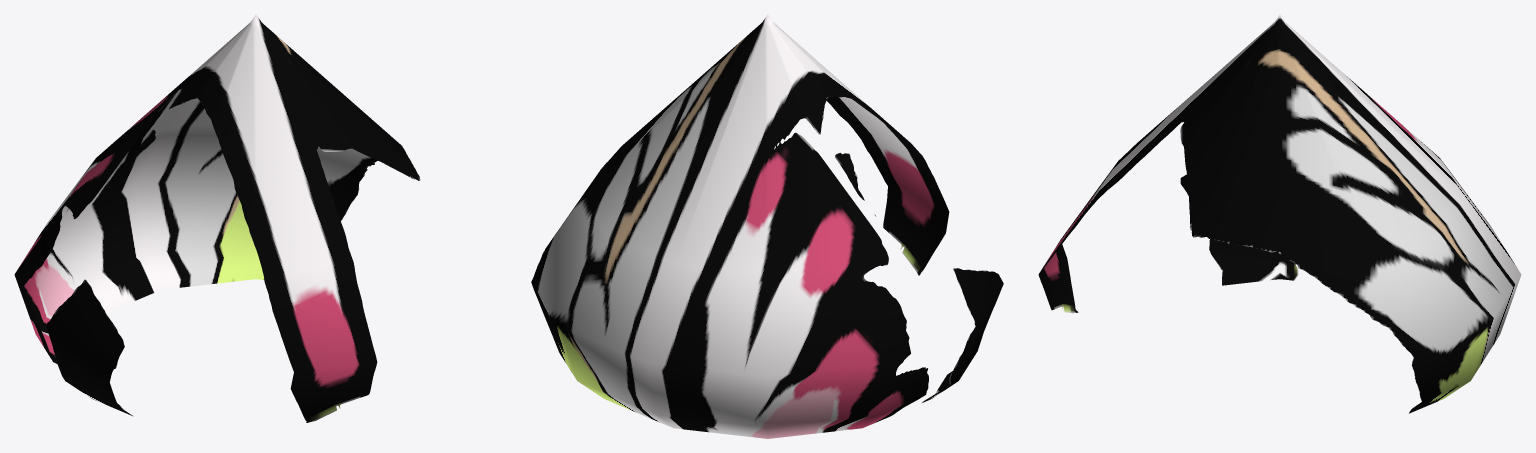
File: DHP_MOD_Meringue.fbx
The picture shows the model from 3 angles, left to right: view 1: azimuth 30°, elevation 25°; view 2: azimuth 150°, elevation 25°; view 3: azimuth 270°, elevation 25°; orthographic projection.
Visible parts, largest first — view 1: DHP_MOD_Meringue; view 2: DHP_MOD_Meringue; view 3: DHP_MOD_Meringue.
Boxes of the visible parts, left/top/right/bottom form: DHP_MOD_Meringue: left=14, top=14, right=420, bottom=422; DHP_MOD_Meringue: left=531, top=14, right=1003, bottom=438; DHP_MOD_Meringue: left=1038, top=14, right=1521, bottom=413.
Bounding box in the file's own units: 0.4632 × 0.3651 × 0.4632.
